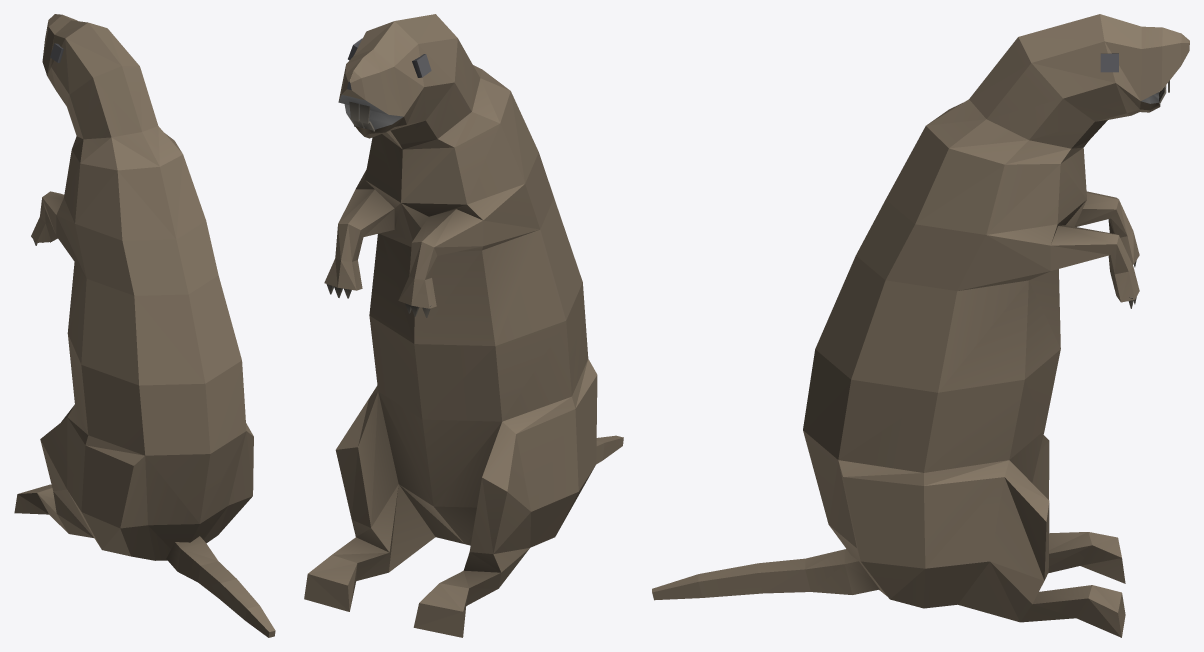
Rendered from alpenmurmel.glb.
The picture shows the model from 3 angles, left to right: view 1: azimuth 30°, elevation 25°; view 2: azimuth 150°, elevation 25°; view 3: azimuth 270°, elevation 25°; orthographic projection. The views are drawn at different scales.
Visible parts, largest first — view 1: Geo_Gopher; view 2: Geo_Gopher; view 3: Geo_Gopher.
Boxes of the visible parts, bbox=[...] form: Geo_Gopher: bbox=[14, 14, 275, 637]; Geo_Gopher: bbox=[304, 14, 623, 637]; Geo_Gopher: bbox=[652, 14, 1189, 637].
Bounding box in the file's own units: 0.1424 × 0.4175 × 0.3471.
